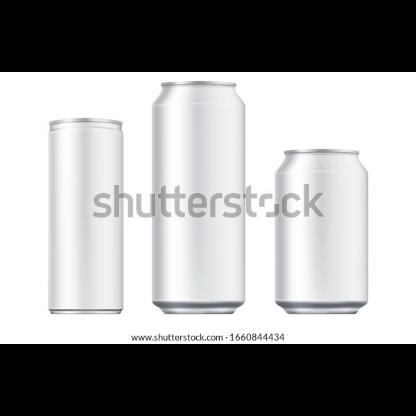Tin_Can: (146, 77, 250, 317), (270, 146, 372, 316), (44, 113, 128, 314)
